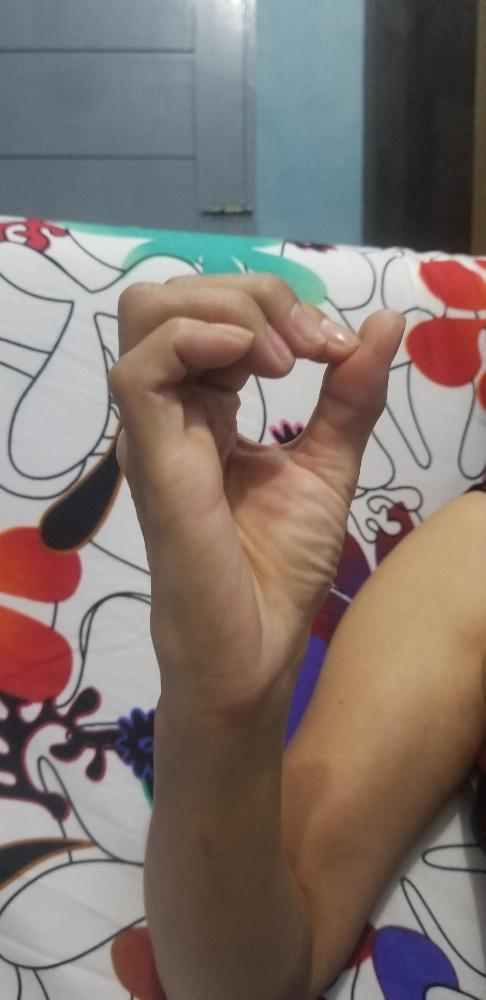o: (105, 266, 407, 715)
